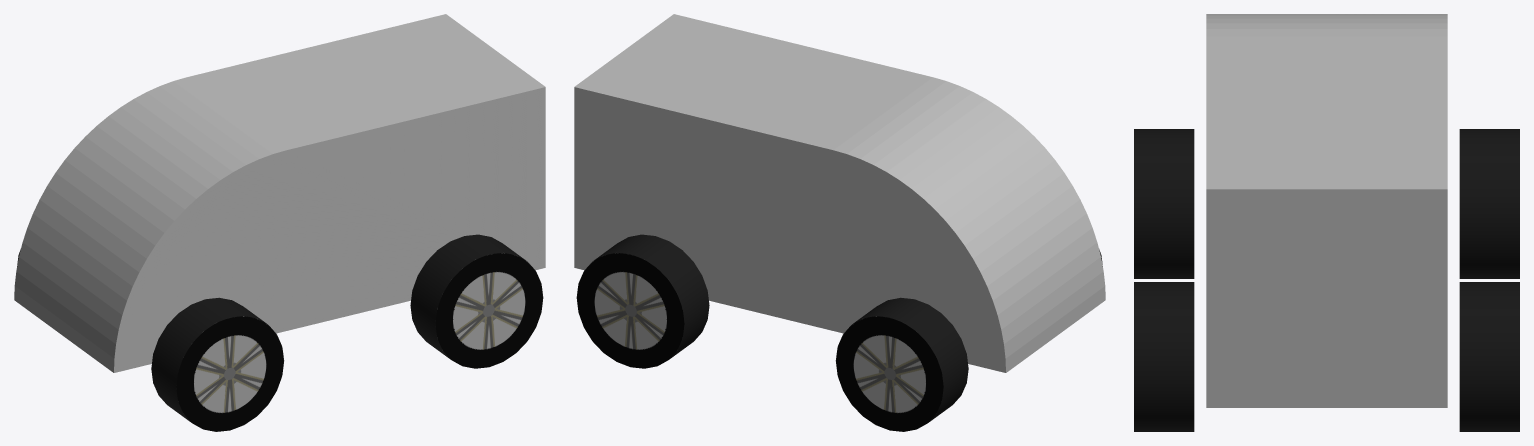
Rendered from car.glb.
3 renders of one model, left to right at view 1: azimuth 30°, elevation 25°; view 2: azimuth 150°, elevation 25°; view 3: azimuth 270°, elevation 25°, orthographic. The views are drawn at different scales.
Visible parts, largest first — view 1: car, wheelLB, wheelLF; view 2: car, wheelRB, wheelRF; view 3: car, wheelRB, wheelRF, wheelLB, wheelLF.
Boxes of the visible parts, x1,y1,x2,y2 form: car: (14, 14, 545, 372); wheelLB: (410, 234, 543, 368); wheelLF: (151, 297, 284, 431); car: (574, 14, 1105, 372); wheelRB: (576, 234, 709, 368); wheelRF: (835, 297, 968, 431); car: (1206, 14, 1447, 407); wheelRB: (1459, 282, 1519, 431); wheelRF: (1459, 129, 1519, 278); wheelLB: (1134, 282, 1194, 431); wheelLF: (1134, 129, 1194, 278).
Size of the model in its own units: 0.5 by 0.2625 by 0.32.
Materials: 2 (1 with a texture image).
